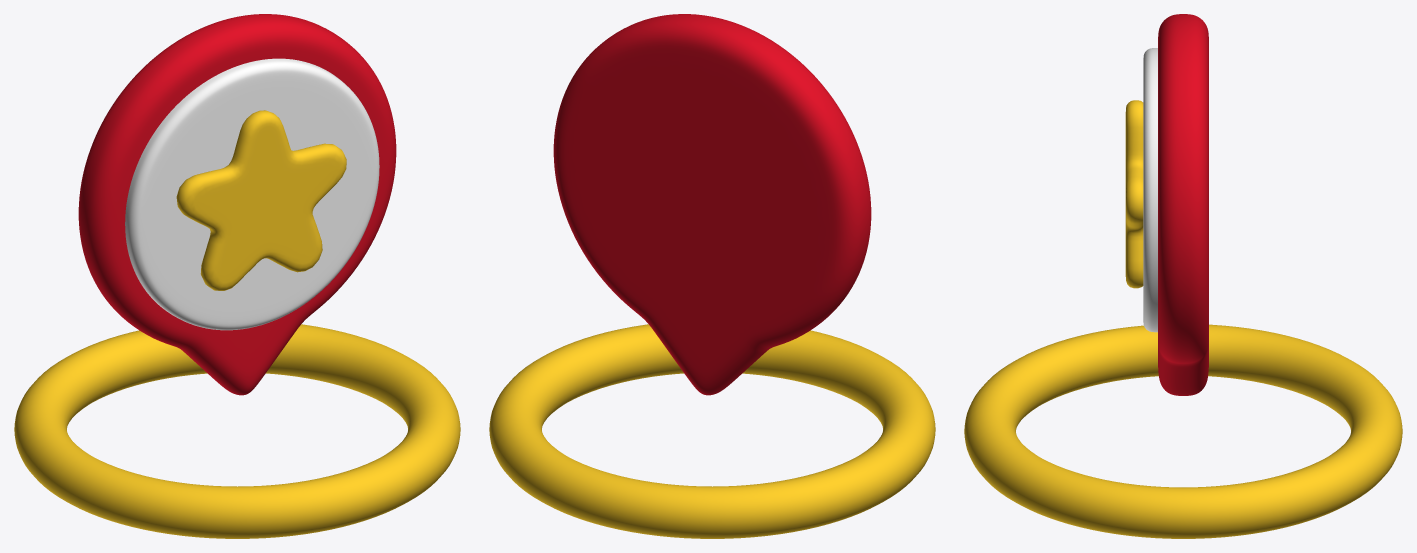
The model's file is star-location-5665179-0.glb.
3 views of the same model, side by side, from view 1: azimuth 30°, elevation 25°; view 2: azimuth 150°, elevation 25°; view 3: azimuth 270°, elevation 25° (orthographic).
Visible parts, largest first — view 1: Torus.029, Cylinder.036, Circle.036, Curve.012; view 2: Circle.036, Torus.029; view 3: Torus.029, Circle.036, Cylinder.036, Curve.012.
Boxes of the visible parts, x1,y1,x2,y2 form: Torus.029: [14, 324, 460, 538]; Cylinder.036: [125, 58, 379, 330]; Circle.036: [78, 14, 396, 395]; Curve.012: [176, 110, 346, 290]; Circle.036: [553, 14, 871, 395]; Torus.029: [489, 324, 935, 538]; Torus.029: [964, 324, 1402, 538]; Circle.036: [1158, 14, 1208, 395]; Cylinder.036: [1143, 48, 1157, 332]; Curve.012: [1125, 100, 1143, 288].
Bounding box in the file's own units: 4.29 × 4.59 × 4.29.
